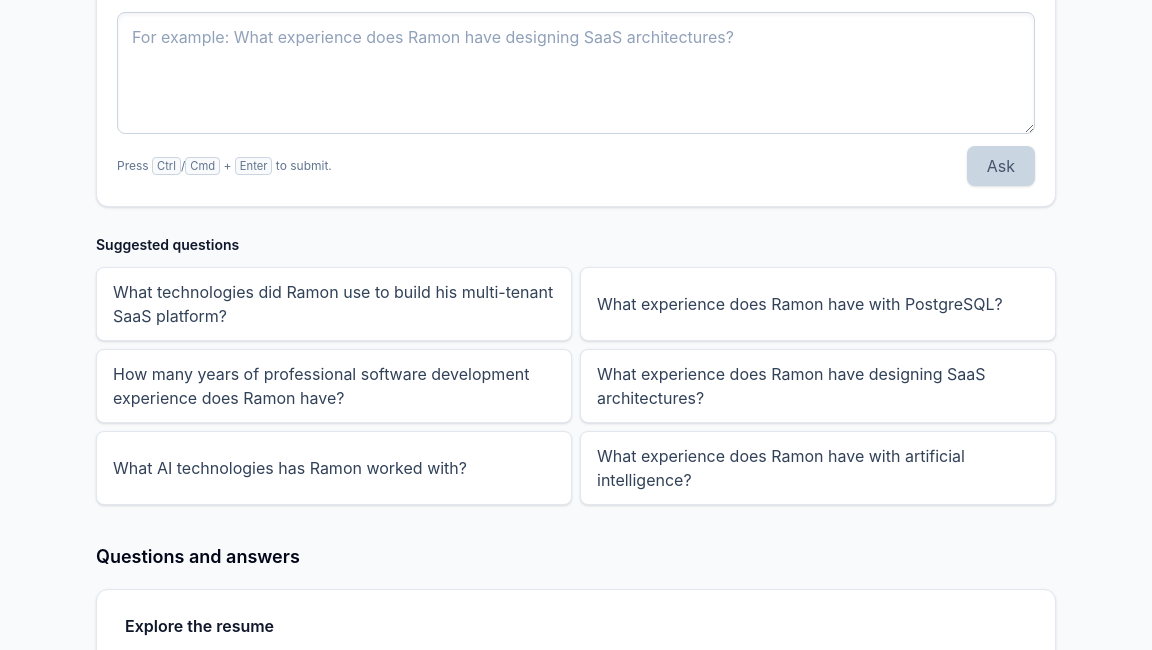
AI Resume application › shows a user-friendly HTTP failure
This screenshot has width=1152, height=650.
(page scrolled)
Click the button "What experience does Ramon have with PostgreSQL?": (818, 304) x1=580 y1=267 x2=1056 y2=341
(page scrolled)
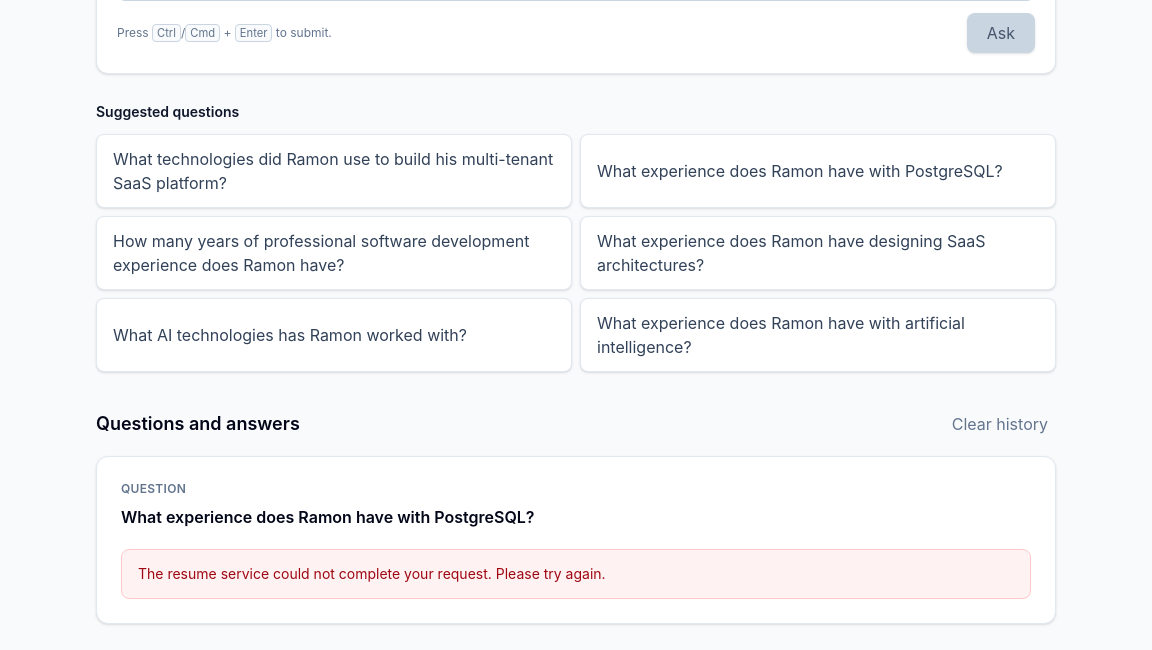
Check: the message does not show "Internal details", box x1=121 y1=549 x2=1031 y2=599
Check: the message shows "could not complete your request", box x1=138 y1=565 x2=606 y2=582
